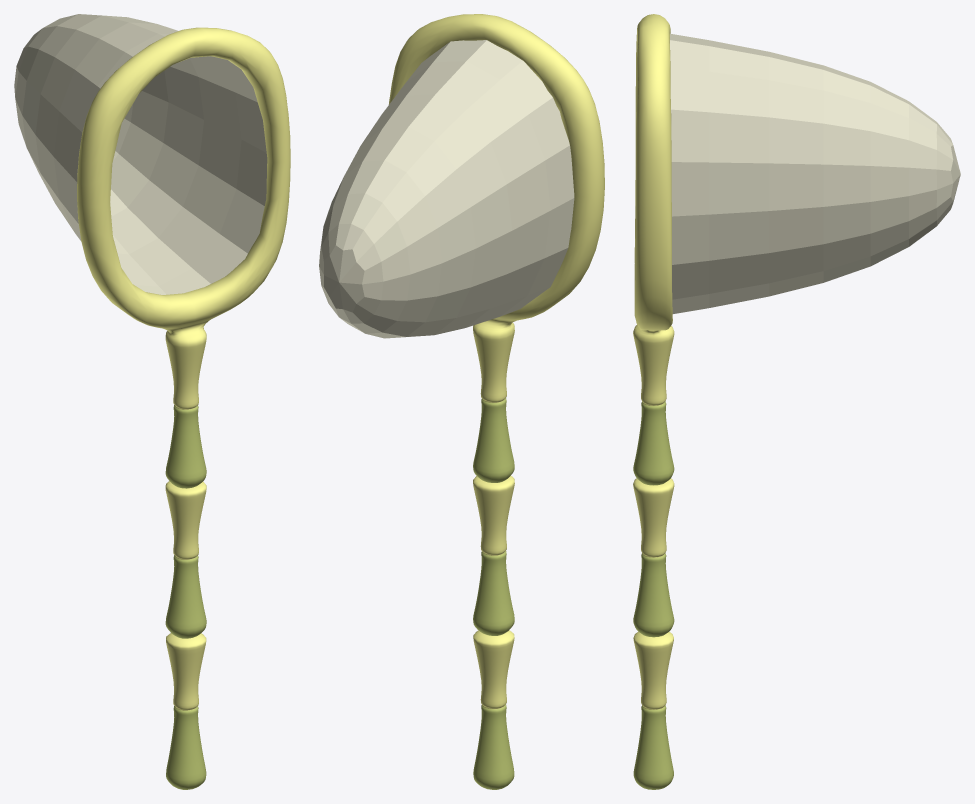
File: SpongeBob's_Jellyfish_Cashing_Net.fbx
3 renders of one model, left to right at view 1: azimuth 30°, elevation 25°; view 2: azimuth 150°, elevation 25°; view 3: azimuth 270°, elevation 25°, orthographic.
Parts seen in each view (by area): view 1: net, wood; view 2: net, wood; view 3: net, wood.
Part boxes in pixels (bbox=[...]): net: bbox=[14, 14, 267, 294]; wood: bbox=[77, 27, 290, 789]; net: bbox=[319, 40, 574, 338]; wood: bbox=[388, 14, 604, 789]; net: bbox=[670, 33, 960, 313]; wood: bbox=[633, 14, 674, 789].
Bounding box in the file's own units: 619 × 2153 × 838.
